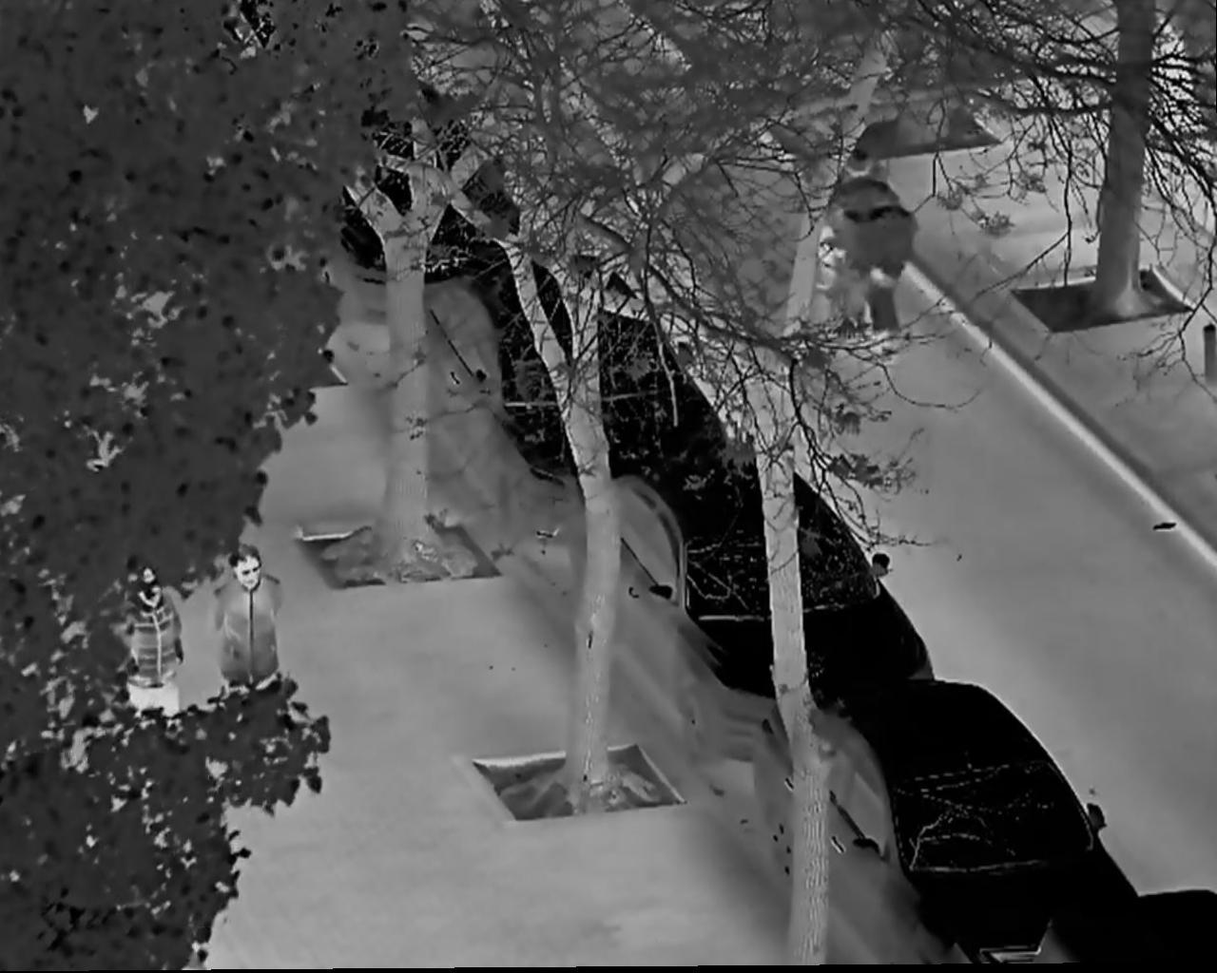person: (110, 555, 193, 757), (811, 149, 906, 320), (210, 552, 289, 736)
